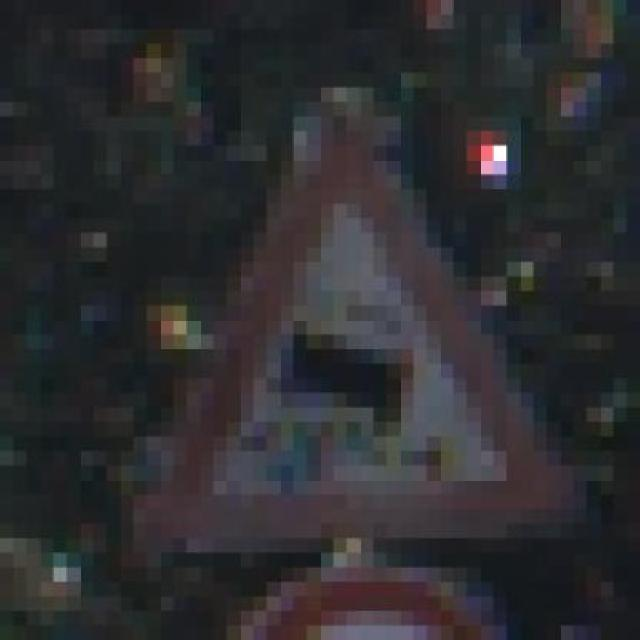Slippery Road Ahead: (93, 102, 601, 568)
